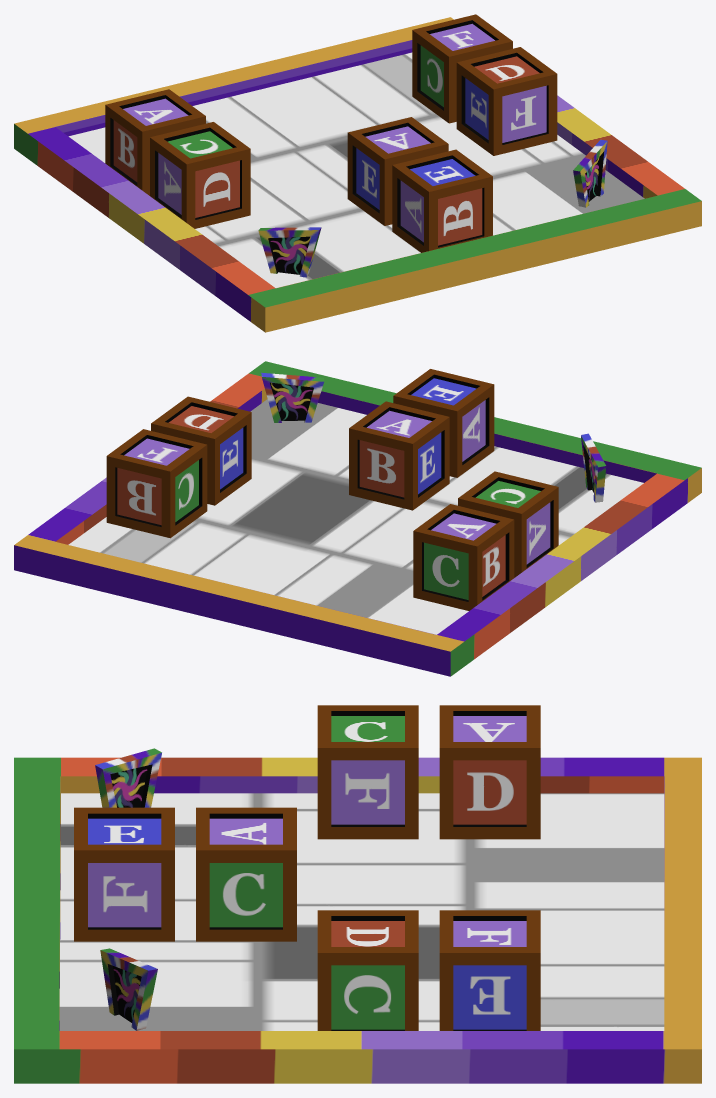
File: Location.fbx
The picture shows the model from 3 angles, top to bottom: view 1: azimuth 30°, elevation 25°; view 2: azimuth 150°, elevation 25°; view 3: azimuth 270°, elevation 25°; orthographic projection. The views are drawn at different scales.
Visible parts, largest first — view 1: Cube.002, Field, Box.015, Box.011, Box.023, Box.018, Box.010, Box.001, Portal Base.001, Portal.001, Portal Base; view 2: Field, Cube.002, Box.010, Box.018, Box.001, Box.023, Box.015, Box.011, Portal Base, Portal, Portal Base.001; view 3: Field, Cube.002, Box.001, Box.011, Box.018, Box.023, Box.010, Box.015, Portal Base, Portal Base.001, Portal.001, Portal.
Boxes of the visible parts, left/top/right/bottom form: Cube.002: left=14, top=17, right=701, bottom=332; Field: left=68, top=52, right=644, bottom=287; Box.015: left=456, top=47, right=557, bottom=155; Box.011: left=150, top=122, right=250, bottom=228; Box.023: left=392, top=149, right=492, bottom=252; Box.018: left=347, top=117, right=448, bottom=225; Box.010: left=412, top=14, right=512, bottom=123; Box.001: left=105, top=89, right=205, bottom=195; Portal Base.001: left=258, top=227, right=321, bottom=277; Portal.001: left=269, top=236, right=310, bottom=274; Portal Base: left=573, top=139, right=607, bottom=207; Field: left=68, top=399, right=643, bottom=634; Cube.002: left=14, top=361, right=701, bottom=676; Box.010: left=106, top=429, right=207, bottom=538; Box.018: left=349, top=401, right=449, bottom=510; Box.001: left=413, top=504, right=514, bottom=610; Box.023: left=393, top=369, right=494, bottom=477; Box.015: left=151, top=396, right=251, bottom=505; Box.011: left=458, top=471, right=558, bottom=577; Portal Base: left=261, top=372, right=324, bottom=422; Portal: left=270, top=382, right=313, bottom=420; Portal Base.001: left=581, top=433, right=606, bottom=502; Field: left=59, top=793, right=664, bottom=1030; Cube.002: left=14, top=757, right=701, bottom=1083; Box.001: left=439, top=705, right=540, bottom=839; Box.011: left=317, top=705, right=418, bottom=839; Box.018: left=196, top=807, right=296, bottom=941; Box.023: left=74, top=807, right=174, bottom=941; Box.010: left=439, top=910, right=540, bottom=1030; Box.015: left=317, top=910, right=418, bottom=1030; Portal Base: left=100, top=948, right=157, bottom=1030; Portal Base.001: left=95, top=748, right=161, bottom=807; Portal.001: left=110, top=765, right=147, bottom=807; Portal: left=113, top=966, right=141, bottom=1022.
Size of the model in its own units: 3648 by 632 by 3637.
